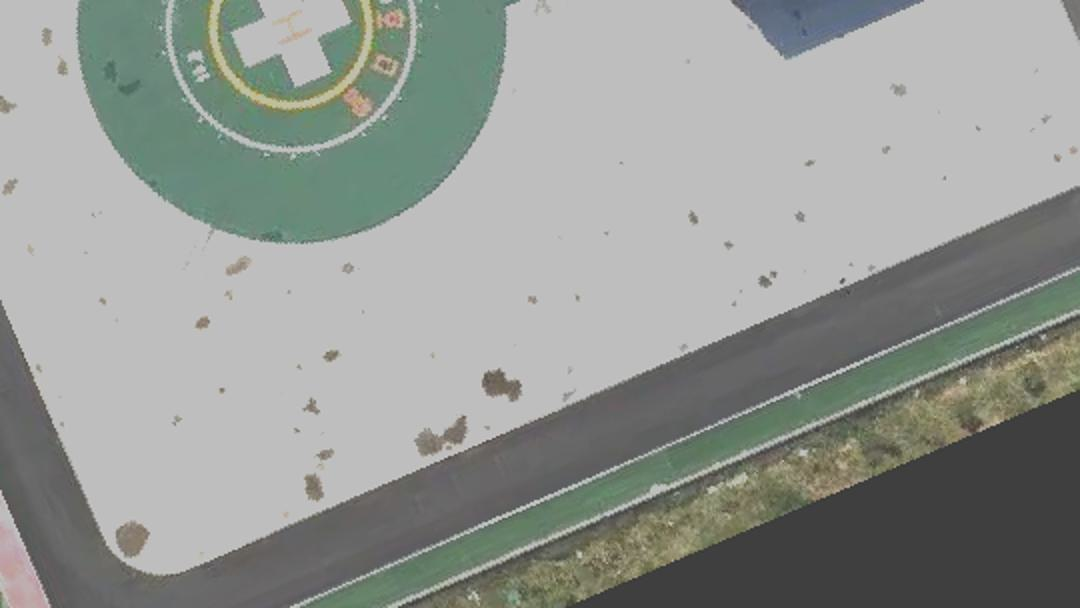Apron: (201, 1, 382, 113)
